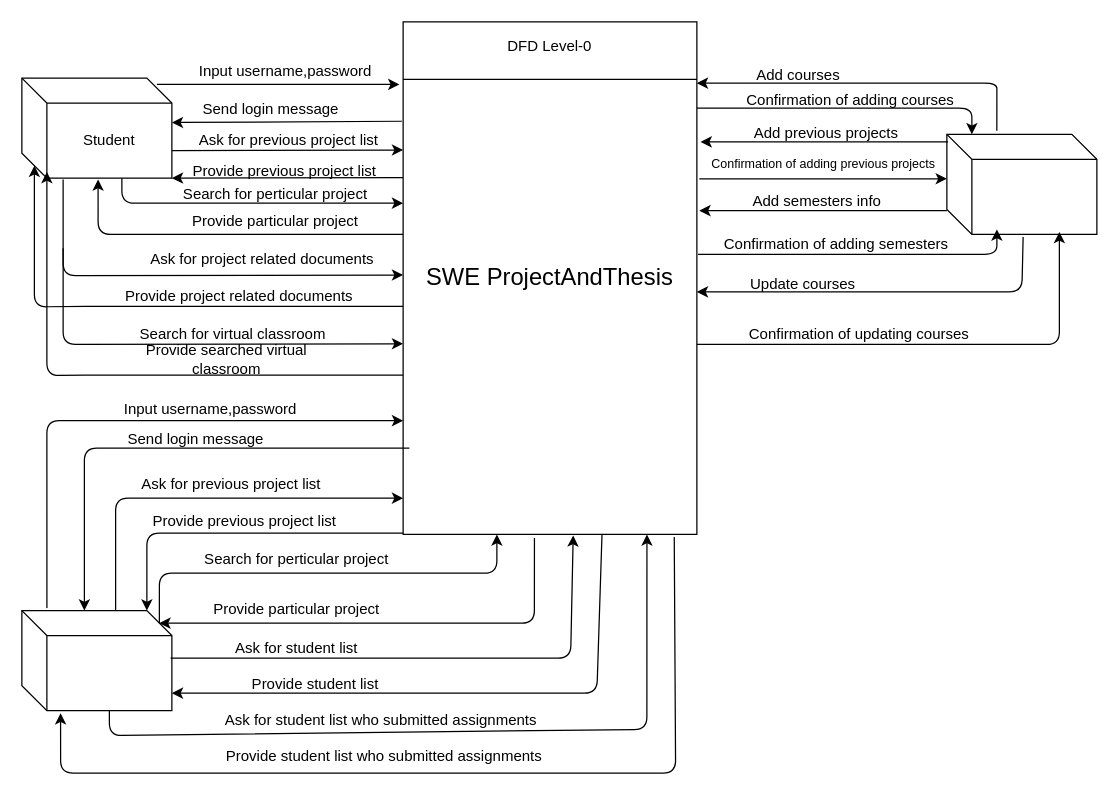
The diagram is 1119 pixels wide and 805 high, and some of its shapes have lost their labels. The centre of each missing label's shape, as x and y in pixels:
"Admin" belongs at (x=1021, y=183).
"Teacher" belongs at (x=96, y=660).
